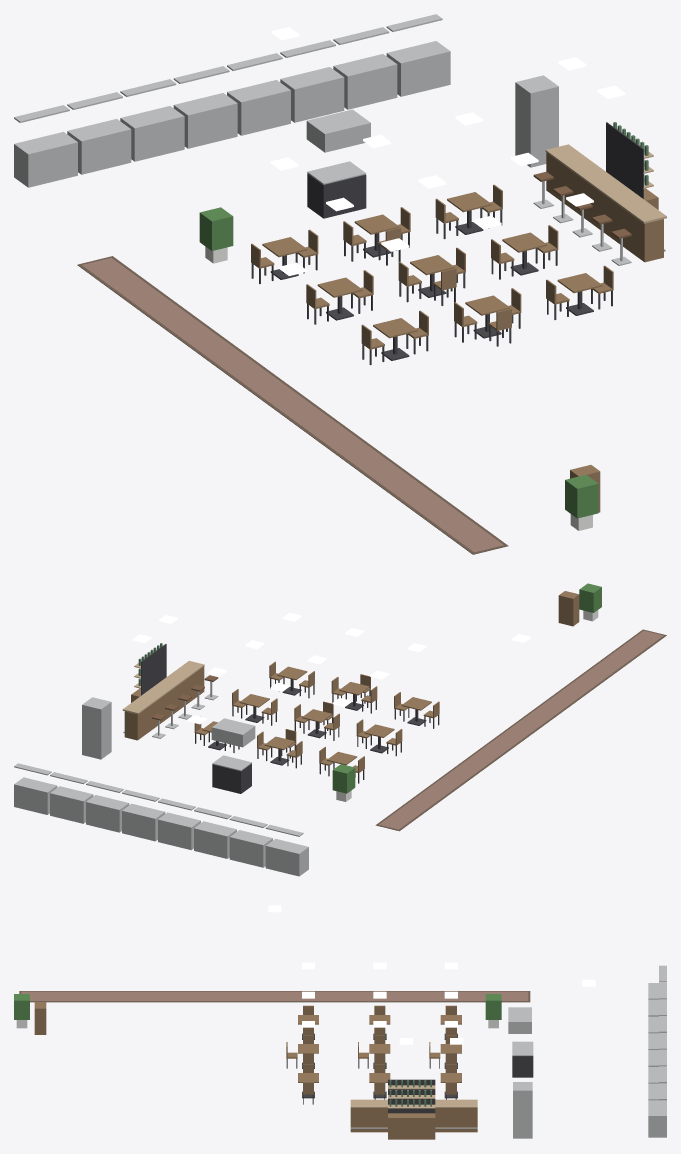
The model's file is fine-s0.glb.
3 renders of one model, top to bottom at view 1: azimuth 30°, elevation 25°; view 2: azimuth 150°, elevation 25°; view 3: azimuth 270°, elevation 25°, orthographic. The views are drawn at different scales.
Parts seen in each view (by area): view 1: soft-s0, range.000, fridge.000, kitchen-counter.000, kitchen-counter.003, kitchen-counter.007, kitchen-counter.002, kitchen-counter.006, kitchen-counter.005, kitchen-counter.001, kitchen-counter.004, back-bar.000 (+14 smaller); view 2: soft-s0, range.000, fridge.000, kitchen-counter.000, kitchen-counter.001, kitchen-counter.004, kitchen-counter.007, kitchen-counter.006, kitchen-counter.002, kitchen-counter.003, kitchen-counter.005, back-bar.000 (+7 smaller); view 3: soft-s0, back-bar.000, range.000, fridge.000, bar-counter.003, bar-counter.000, kitchen-counter.007, plant-medium.001, plant-medium.000, host-stand.000, bar-counter.001.
Part boxes in pixels (box(x1,y1,x2,y2)): soft-s0: box(77, 256, 508, 554); range.000: box(306, 109, 370, 218); fridge.000: box(515, 75, 558, 167); kitchen-counter.000: box(14, 105, 77, 187); kitchen-counter.003: box(173, 66, 237, 148); kitchen-counter.007: box(386, 14, 450, 96); kitchen-counter.002: box(120, 79, 184, 161); kitchen-counter.006: box(333, 27, 397, 109); kitchen-counter.005: box(280, 40, 344, 122); kitchen-counter.001: box(67, 92, 131, 174); kitchen-counter.004: box(227, 53, 290, 135); back-bar.000: box(606, 122, 658, 209); soft-s0: box(375, 629, 666, 831); range.000: box(211, 718, 255, 793); fridge.000: box(82, 697, 111, 759); kitchen-counter.000: box(265, 825, 308, 876); kitchen-counter.001: box(229, 816, 272, 867); kitchen-counter.004: box(122, 789, 165, 841); kitchen-counter.007: box(14, 763, 57, 814); kitchen-counter.006: box(50, 772, 93, 823); kitchen-counter.002: box(194, 807, 236, 858); kitchen-counter.003: box(158, 798, 200, 850); kitchen-counter.005: box(86, 781, 129, 832); back-bar.000: box(131, 643, 166, 702); soft-s0: box(19, 991, 530, 1002); back-bar.000: box(388, 1079, 435, 1139); range.000: box(508, 1007, 533, 1077); fridge.000: box(513, 1082, 532, 1138); bar-counter.003: box(350, 1099, 382, 1132); bar-counter.000: box(446, 1099, 477, 1132); kitchen-counter.007: box(648, 1083, 666, 1137); plant-medium.001: box(485, 994, 501, 1028); plant-medium.000: box(14, 994, 29, 1028); host-stand.000: box(34, 1002, 46, 1034); bar-counter.001: box(435, 1099, 445, 1132).
Bounding box in the file's own units: 13.27 × 3.69 × 24.68.
